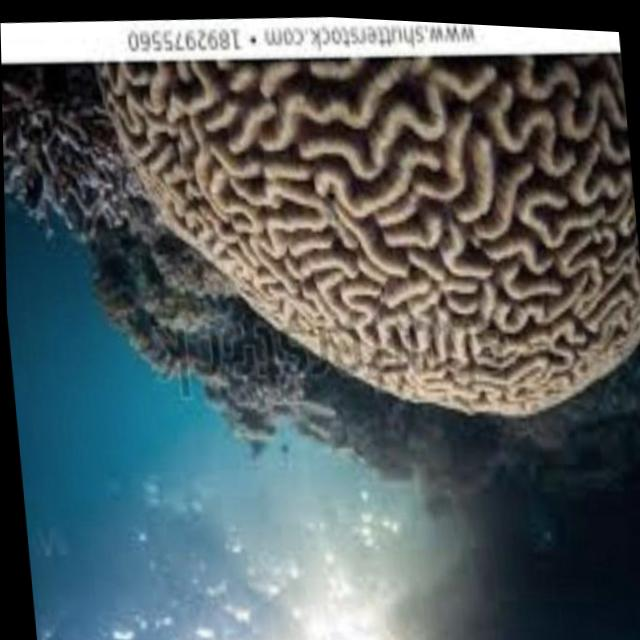Healthy Coral: (91, 29, 640, 455)
